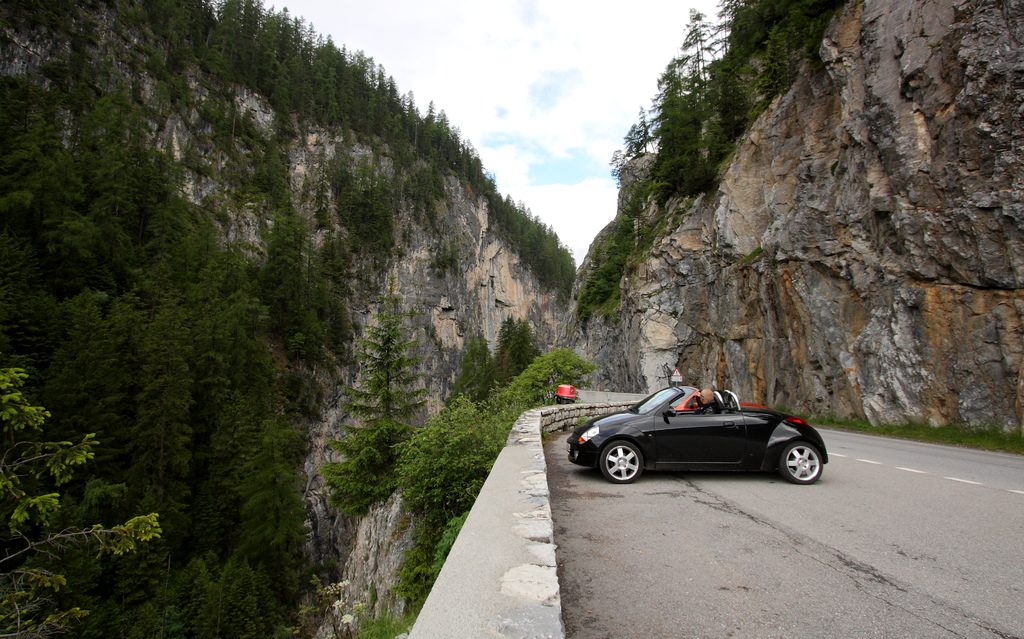Car: (564, 388, 840, 491), (672, 387, 766, 412)
